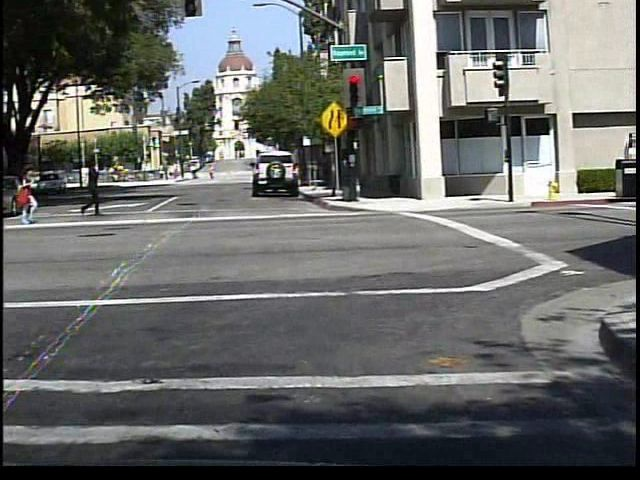person: (71, 157, 109, 222), (14, 165, 39, 229), (202, 162, 213, 183), (186, 166, 196, 183)
